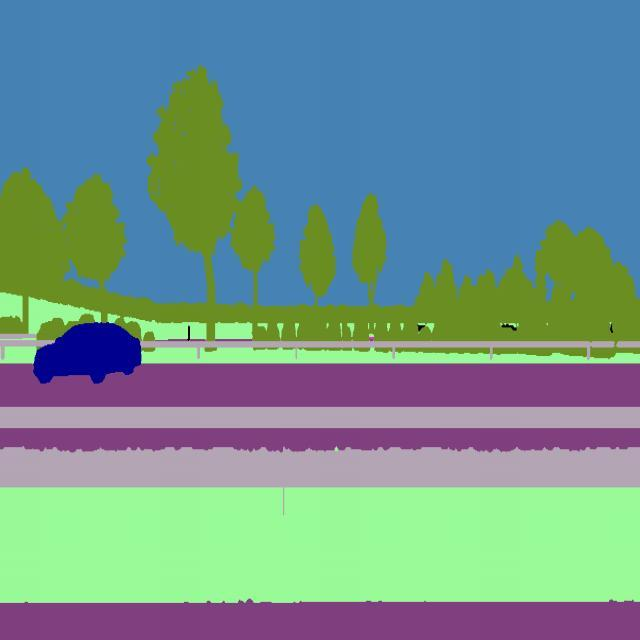safe: (32, 316, 148, 390)
